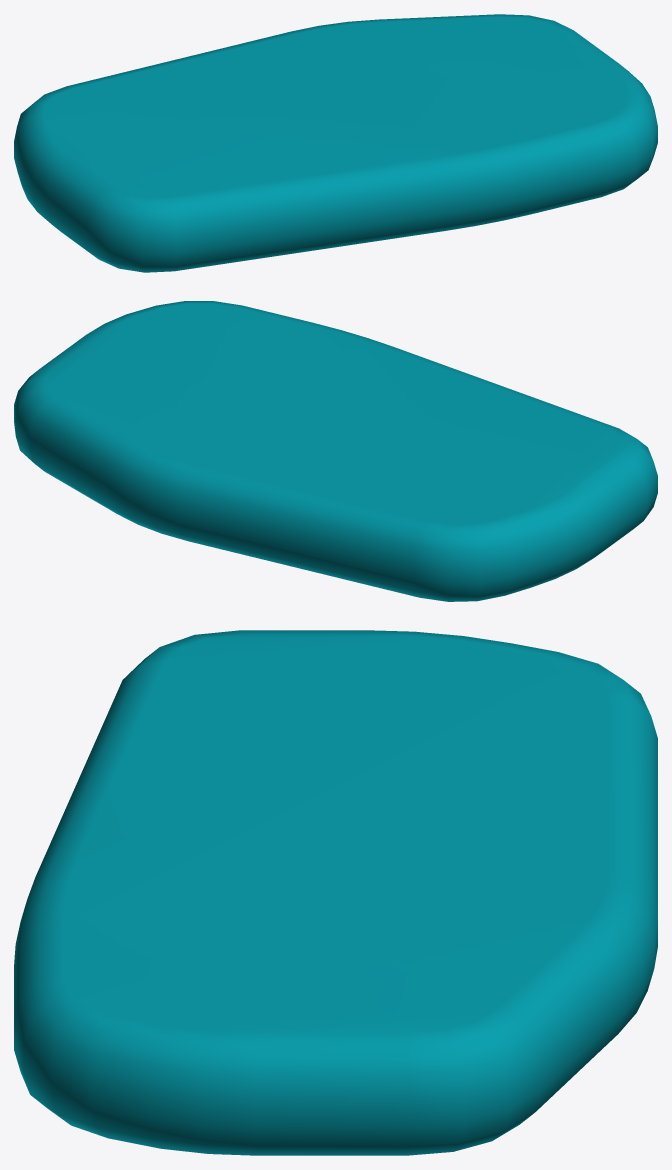
The model's file is System_003_Interior_001_ShieldDisplay.fbx.
3 views of the same model, one above another, from view 1: azimuth 30°, elevation 25°; view 2: azimuth 150°, elevation 25°; view 3: azimuth 270°, elevation 25° (orthographic). The views are drawn at different scales.
Parts seen in each view (by area): view 1: System_003_Interior_001_ShieldDisplay; view 2: System_003_Interior_001_ShieldDisplay; view 3: System_003_Interior_001_ShieldDisplay.
Boxes of the visible parts, left/top/right/bottom form: System_003_Interior_001_ShieldDisplay: left=14, top=14, right=657, bottom=272; System_003_Interior_001_ShieldDisplay: left=14, top=301, right=657, bottom=601; System_003_Interior_001_ShieldDisplay: left=14, top=630, right=657, bottom=1155.
Size of the model in its own units: 48.7 by 6.08 by 30.06.
